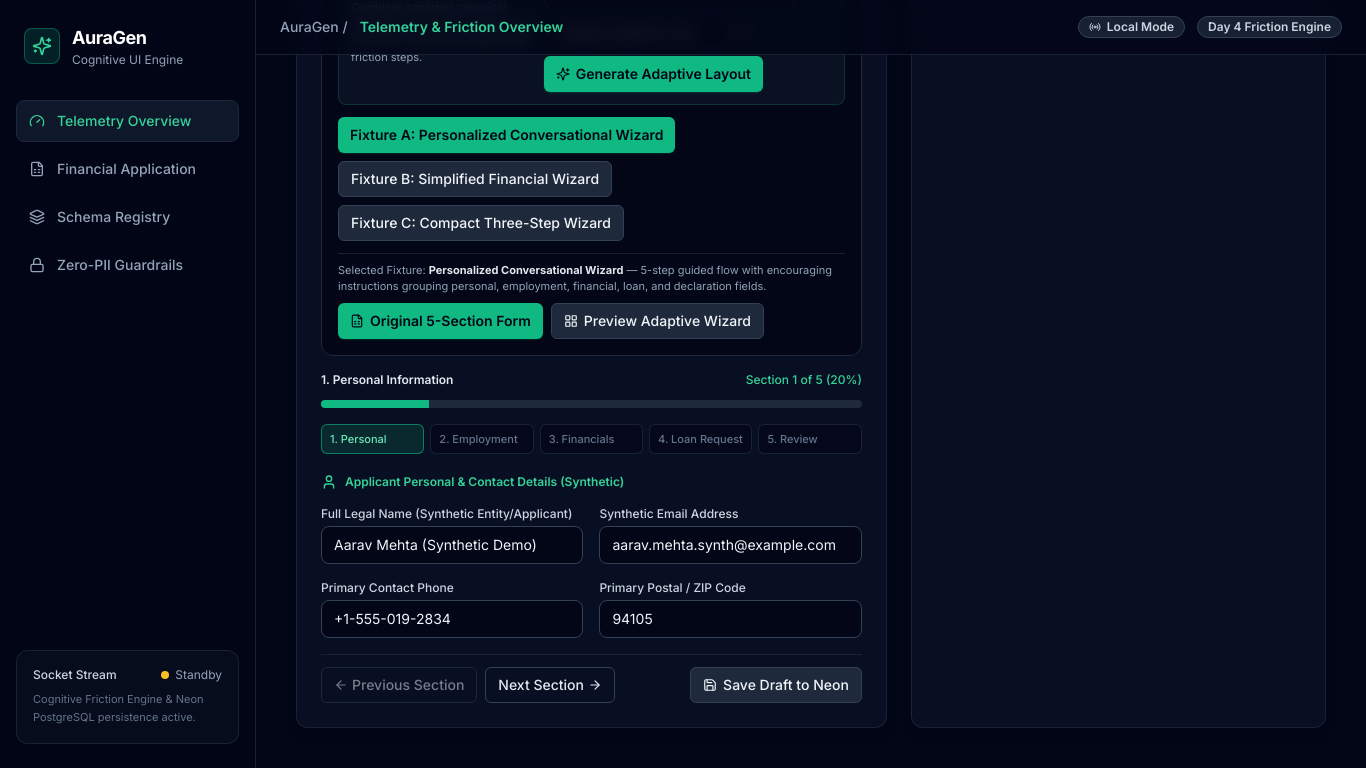
Test: AuraGen Dashboard, 5-Section Financial Loan Form & Day 2/3 Integration › navigates across all 5 loan application sections, preserves values, and tracks backtracks & validation errors
(page scrolled)
Expected: the element with test id "section-personal-information" is shown, [321, 474, 862, 638]
Replace the text in the field labelled "Full Legal Name (Synthetic Entity/Applicant)" with "Rohan Sharma Synthetic": point(452, 545) [321, 526, 583, 564]
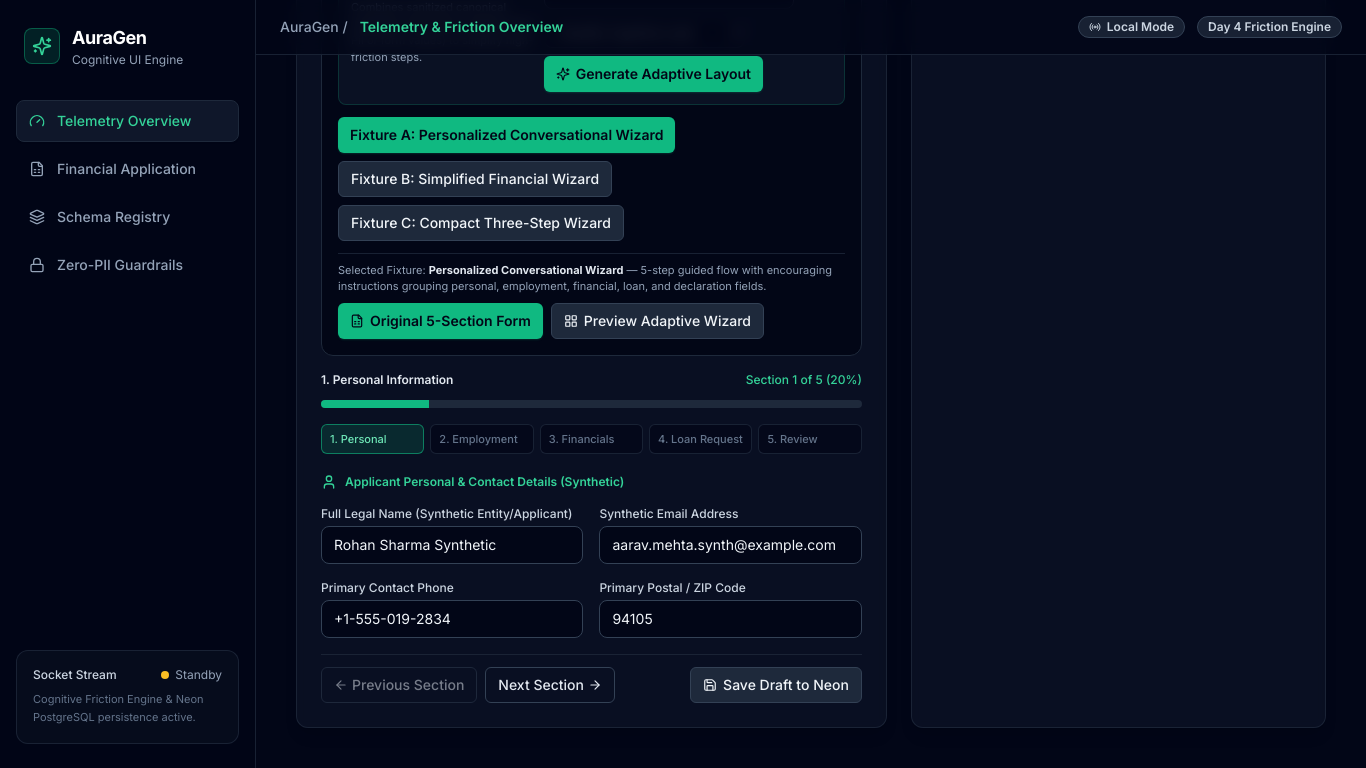
Note: Advance to Section 2: Employment Details
Click the button with test id "wizard-next-step-btn": point(550, 685) [485, 667, 615, 703]
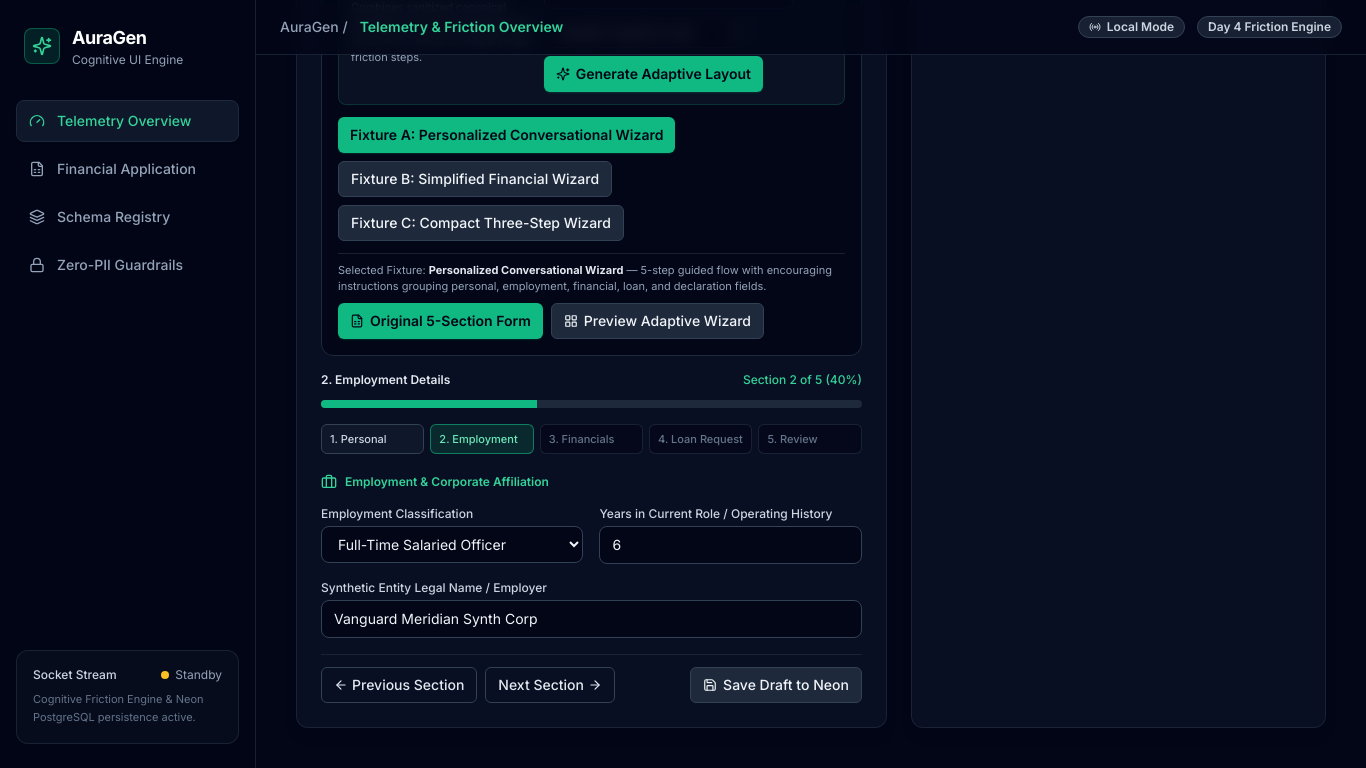
Result: the element with test id "section-employment-details" is shown at [321, 474, 862, 638]
Note: Advance to Section 3: Financial Information
Click the button with test id "wizard-next-step-btn": point(550, 685) [485, 667, 615, 703]
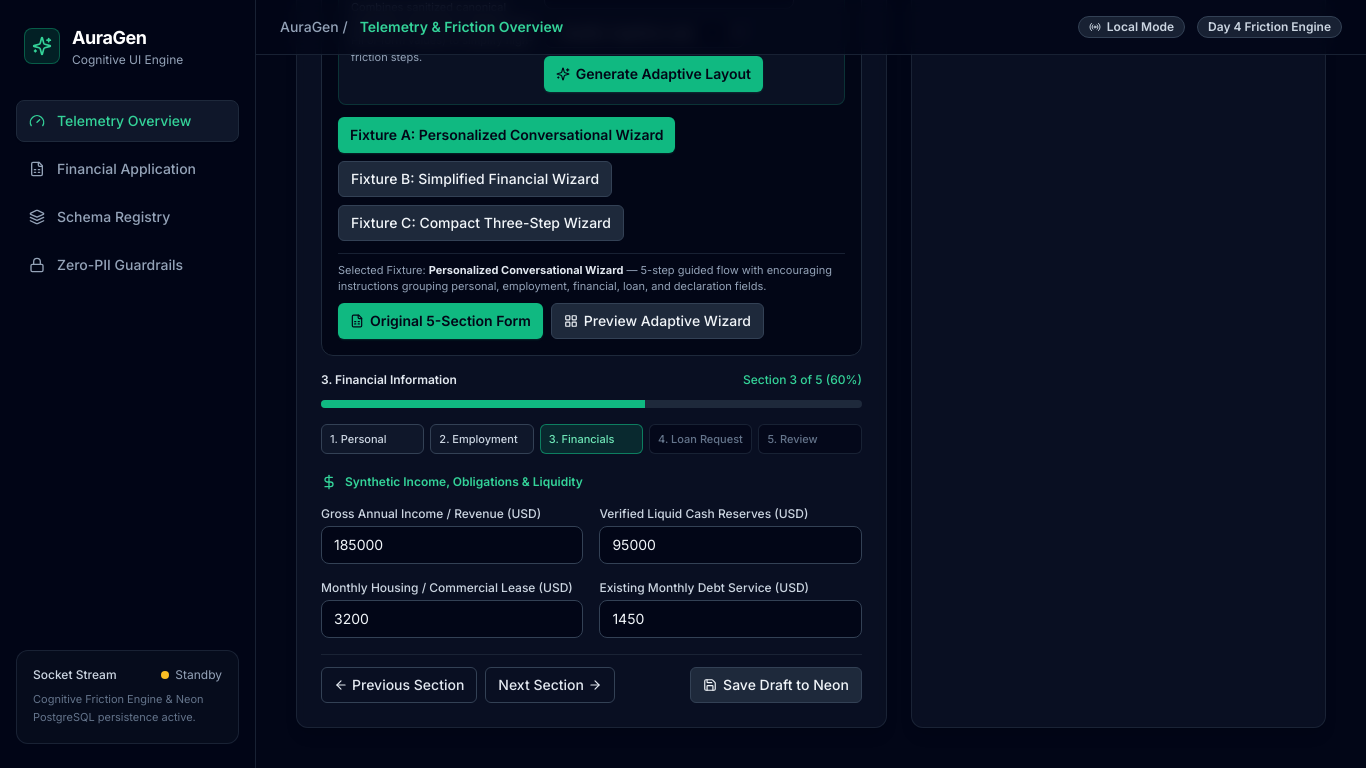
Result: the element with test id "section-financial-information" is shown at [321, 474, 862, 638]
Click the button with test id "wizard-prev-step-btn": point(399, 685) [321, 667, 477, 703]
(page scrolled)
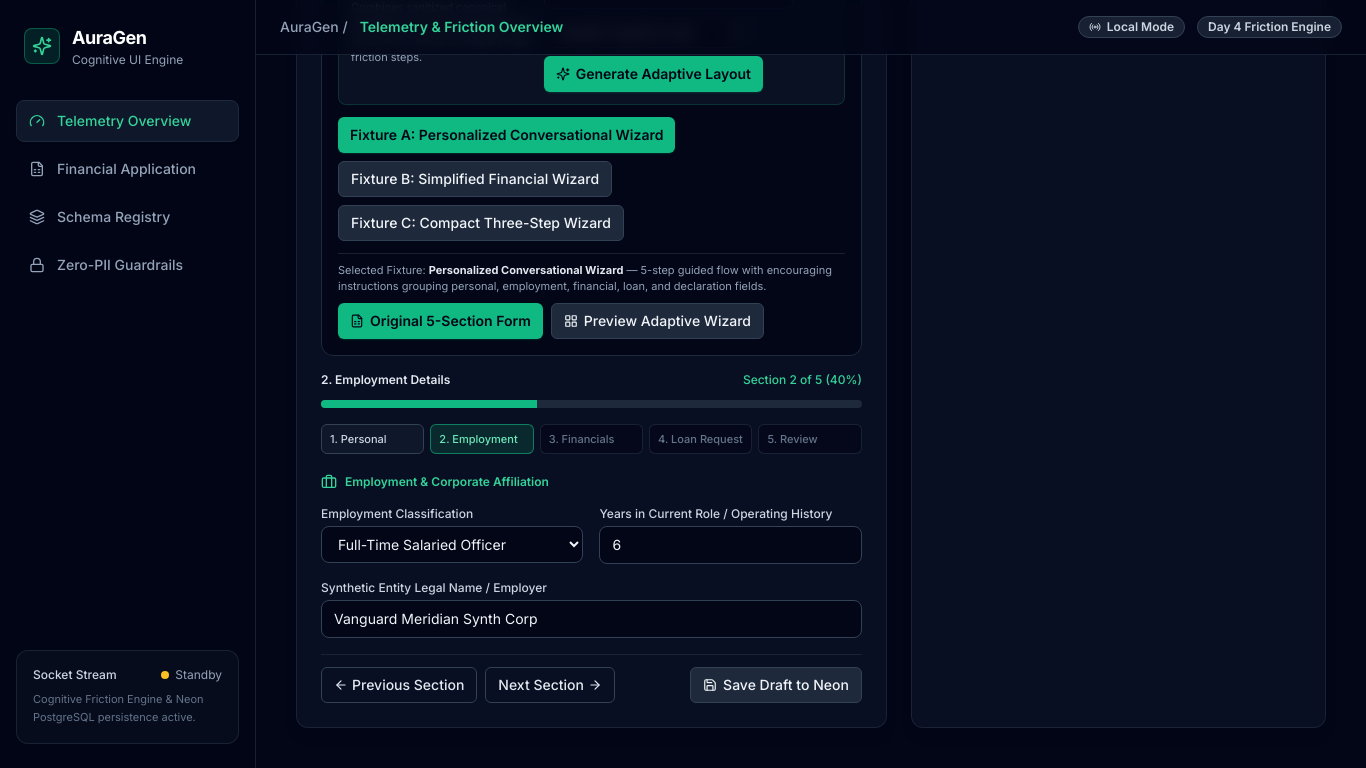
Result: the element with test id "section-employment-details" is shown at [321, 474, 862, 638]
Note: Navigate back to Section 1 and verify "Rohan Sharma Synthetic" was preserved
Click the button with test id "wizard-prev-step-btn": point(399, 685) [321, 667, 477, 703]
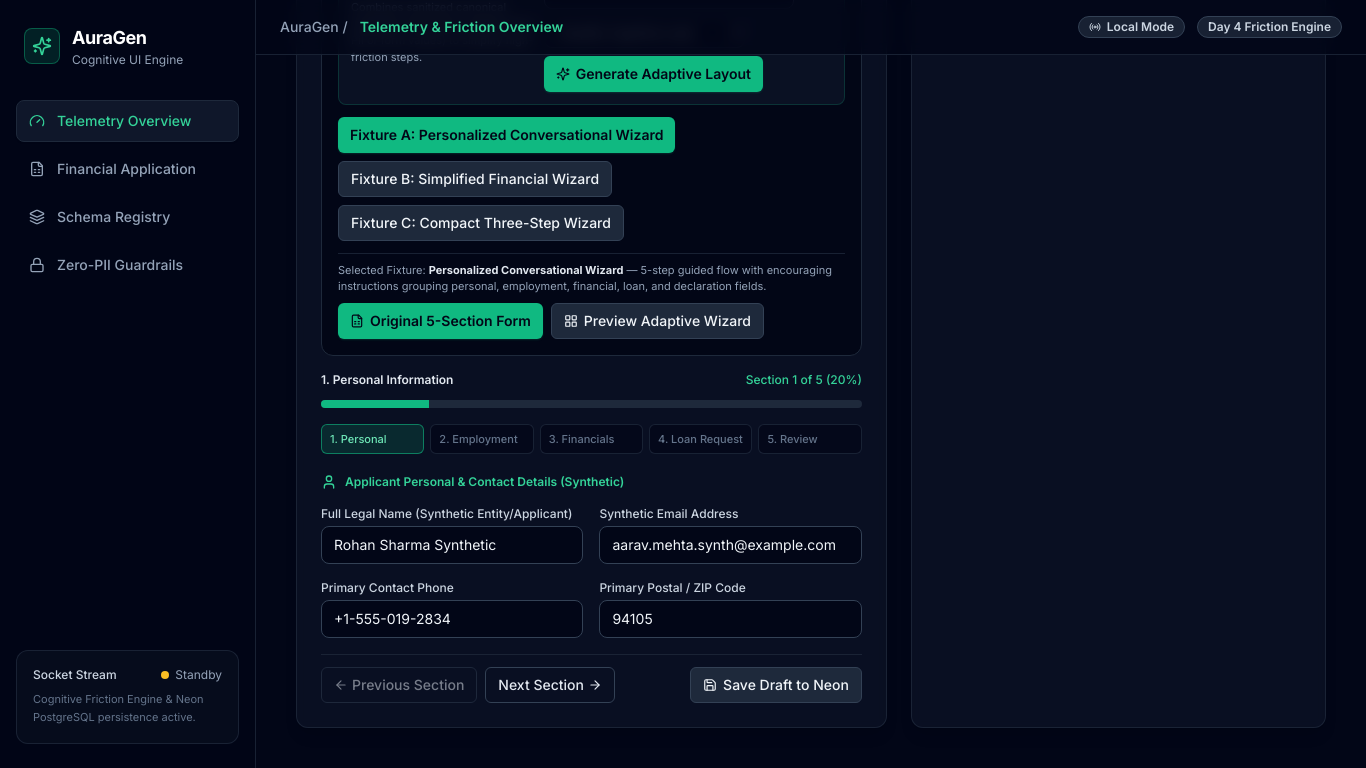
Result: the element with test id "section-personal-information" is shown at [321, 474, 862, 638]
Result: the field labelled "Full Legal Name (Synthetic Entity/Applicant)" holds "Rohan Sharma Synthetic" at [321, 526, 583, 564]
